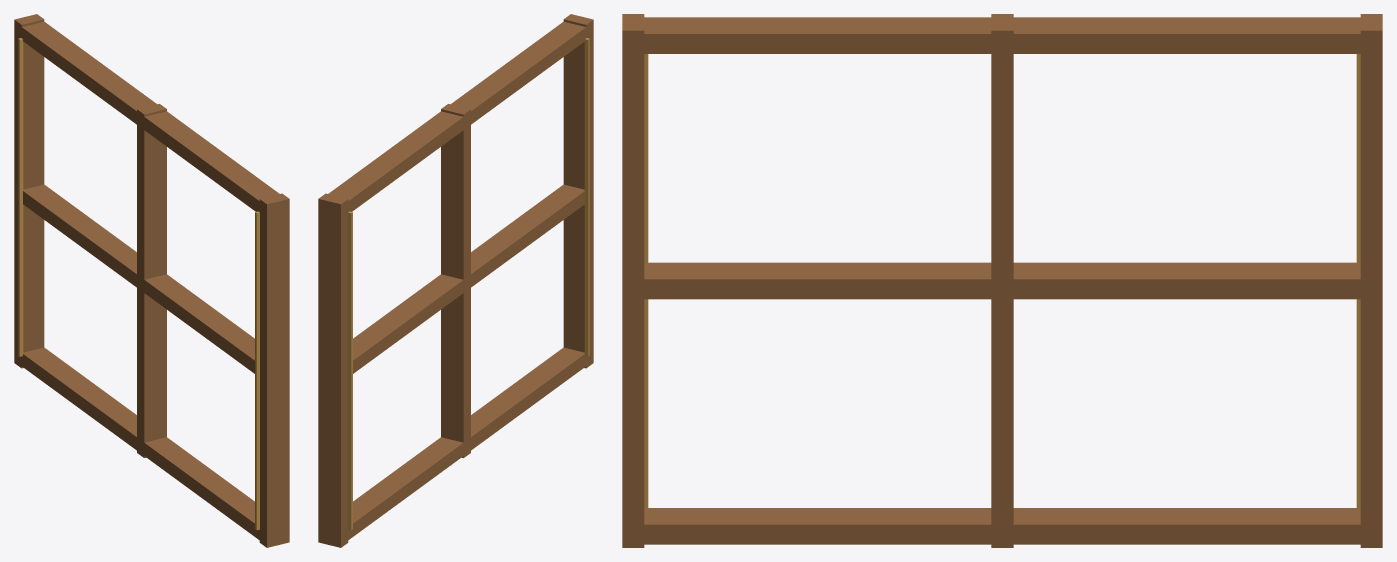
File: west-window-frame.glb
The picture shows the model from 3 angles, left to right: view 1: azimuth 30°, elevation 25°; view 2: azimuth 150°, elevation 25°; view 3: azimuth 270°, elevation 25°; orthographic projection. The views are drawn at different scales.
Parts seen in each view (by area): view 1: WindowFrame; view 2: WindowFrame; view 3: WindowFrame.
Part boxes in pixels (x1=…): WindowFrame: x1=14, y1=14, x2=289, y2=547; WindowFrame: x1=318, y1=14, x2=593, y2=547; WindowFrame: x1=622, y1=14, x2=1382, y2=547.
Bounding box in the file's own units: 0.1825 × 2.32 × 3.09.
